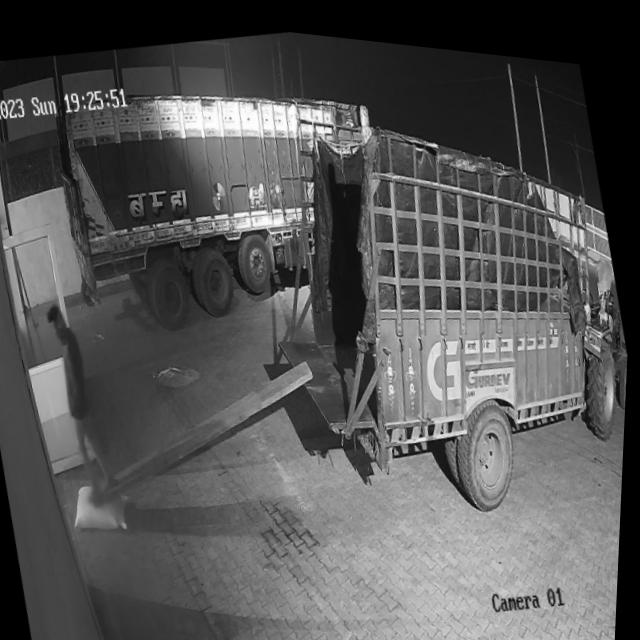sack: (69, 472, 134, 535)
